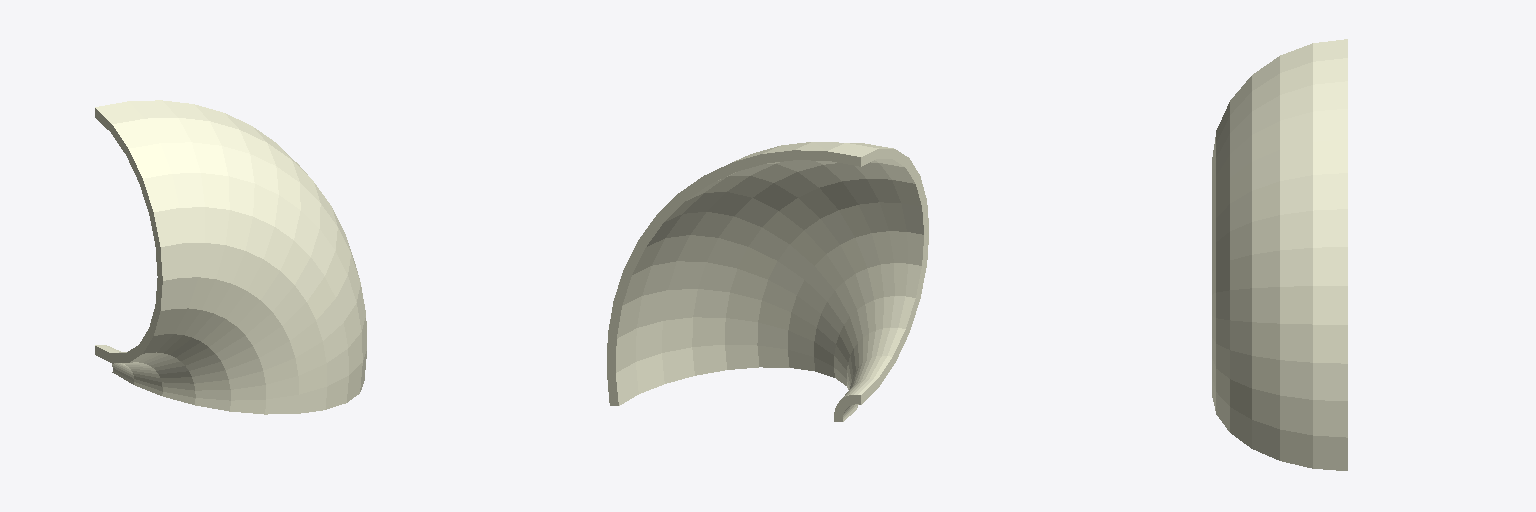
Rendered from section_025.obj.
The picture shows the model from 3 angles: view 1: azimuth 30°, elevation 25°; view 2: azimuth 150°, elevation 25°; view 3: azimuth 270°, elevation 25°; orthographic projection.
Size of the model in its own units: 27.99 by 32.52 by 13.